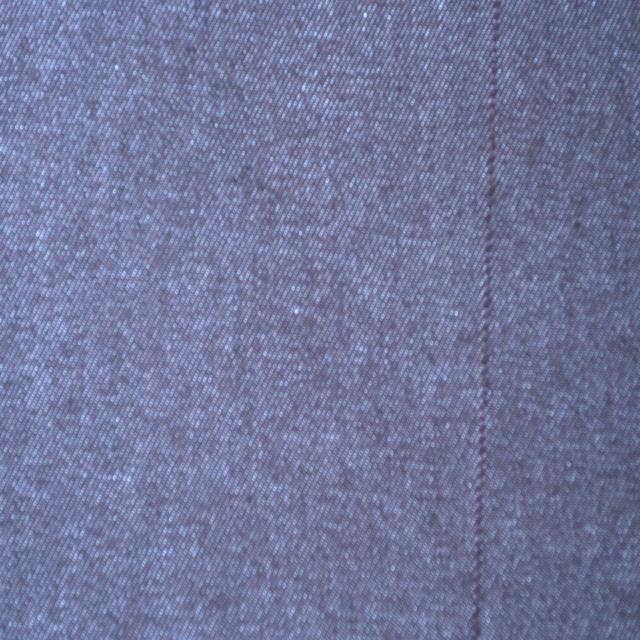Line: (473, 0, 504, 640)
